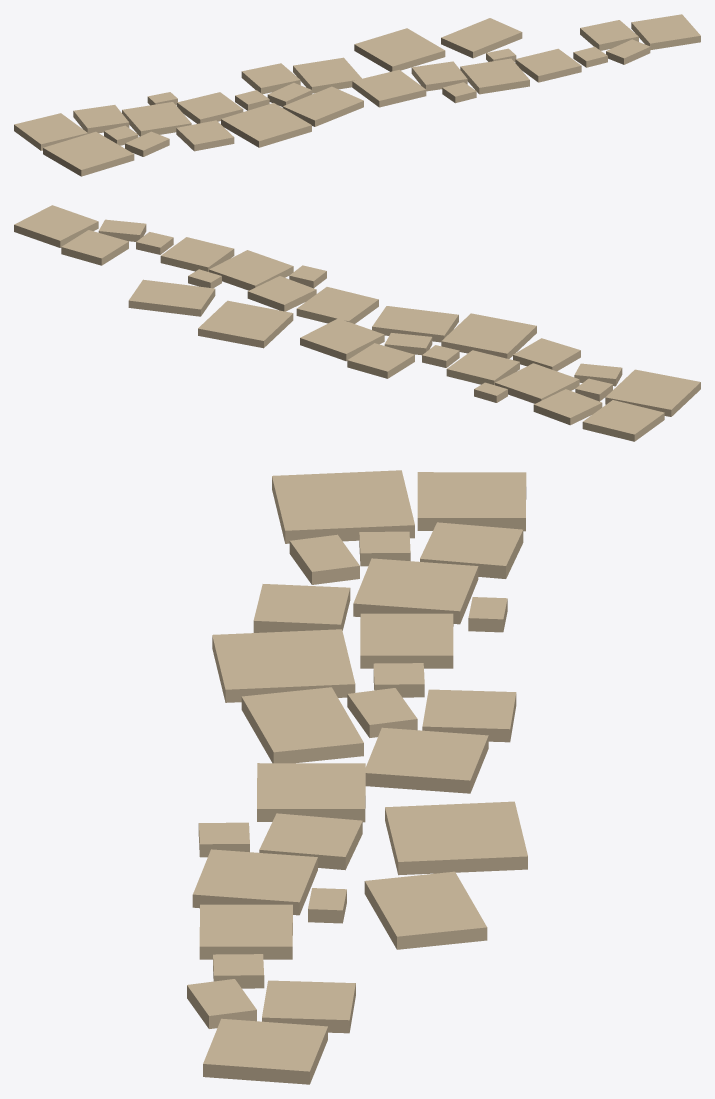
The model's file is cobblepath1.fbx.
The picture shows the model from 3 angles, top to bottom: view 1: azimuth 30°, elevation 25°; view 2: azimuth 150°, elevation 25°; view 3: azimuth 270°, elevation 25°; orthographic projection. The views are drawn at different scales.
Visible parts, largest first — view 1: cobblepath1; view 2: cobblepath1; view 3: cobblepath1.
Boxes of the visible parts, x1,y1,x2,y2 form: cobblepath1: (14,14,700,176); cobblepath1: (14,205,700,441); cobblepath1: (187,470,527,1084).
Bounding box in the file's own units: 15.73 × 0.1601 × 3.77.
